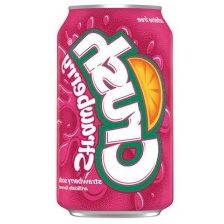can: (49, 4, 178, 218)
